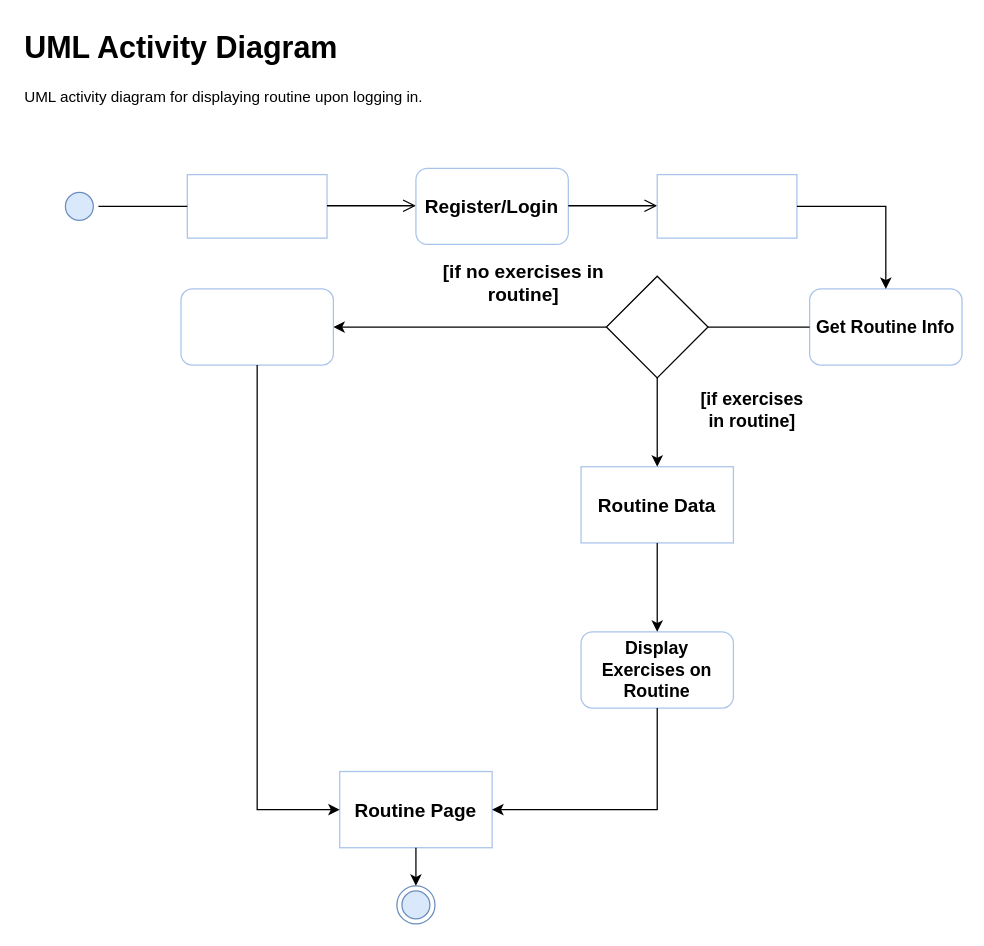
This 984x946 diagram has some shape labels left out. Each missing label, with the box of its shape:
Display "No Routine Created" Message: (180, 288, 333, 365)
User: (186, 173, 327, 238)
User Data: (656, 173, 797, 238)
